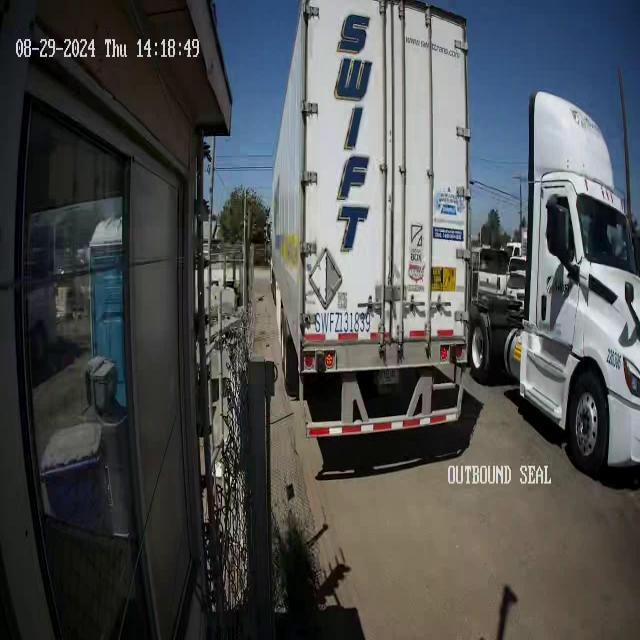BOBTAIL: (471, 89, 639, 472)
TRUCK_CONTAINER: (270, 1, 470, 440)
